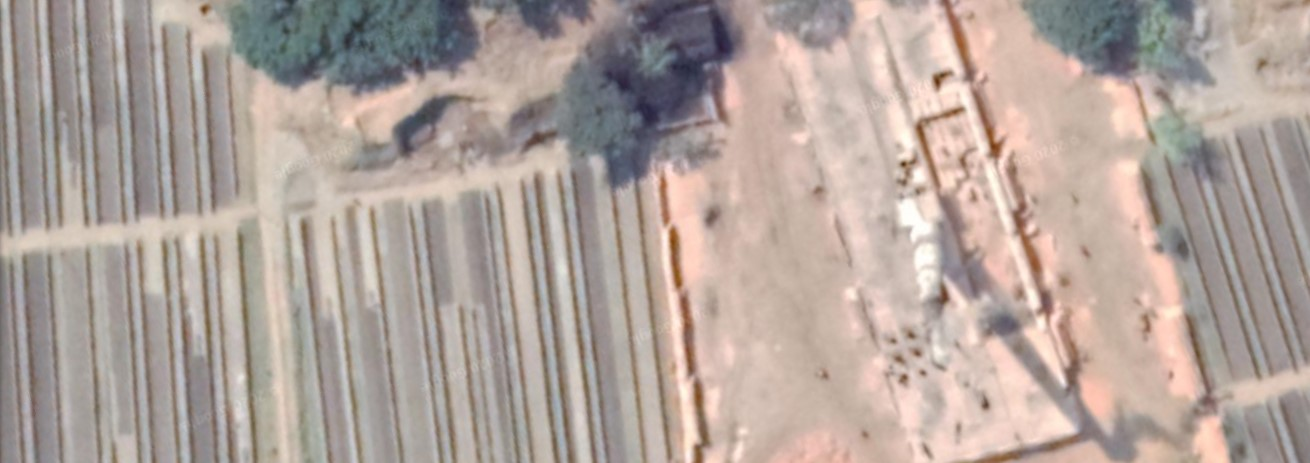kiln: (793, 69, 1101, 411)
